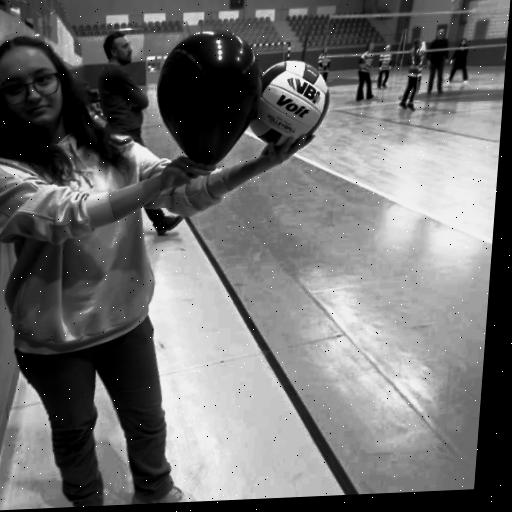balloon: (155, 24, 268, 166)
